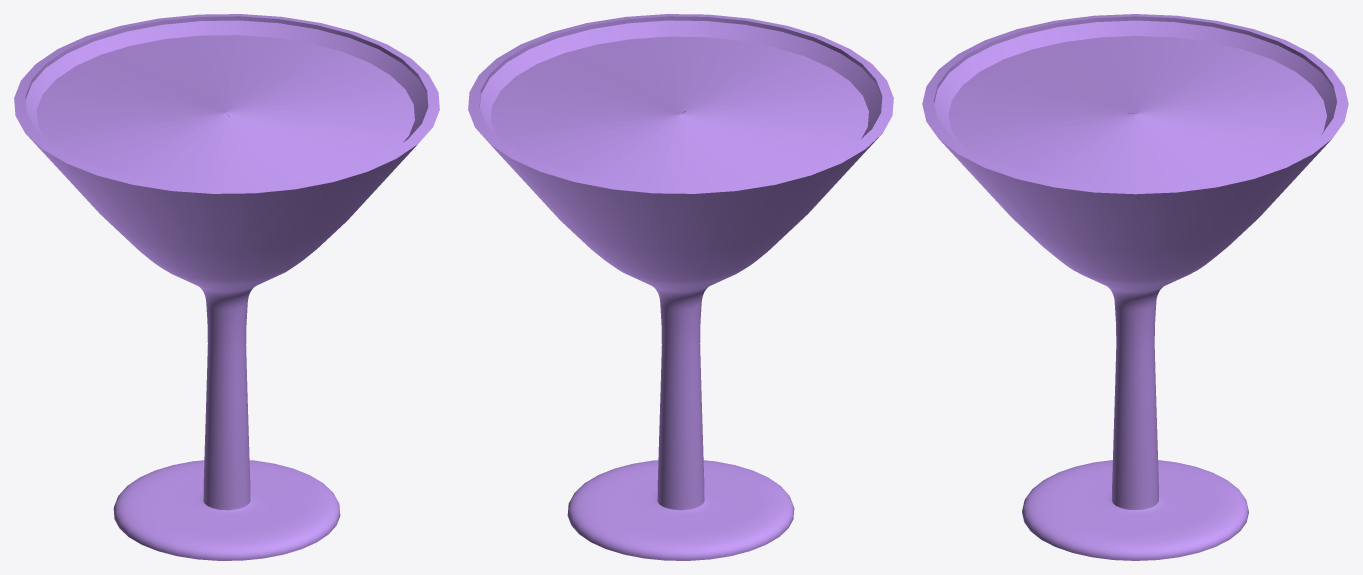
Rendered from glass 1.fbx.
The picture shows the model from 3 angles, left to right: view 1: azimuth 30°, elevation 25°; view 2: azimuth 150°, elevation 25°; view 3: azimuth 270°, elevation 25°; orthographic projection.
Visible parts, largest first — view 1: Line001; view 2: Line001; view 3: Line001.
Boxes of the visible parts, left/top/right/bottom form: Line001: left=14, top=14, right=439, bottom=560; Line001: left=468, top=14, right=893, bottom=560; Line001: left=922, top=14, right=1348, bottom=560.
Bounding box in the file's own units: 9.39 × 9.99 × 9.39.
